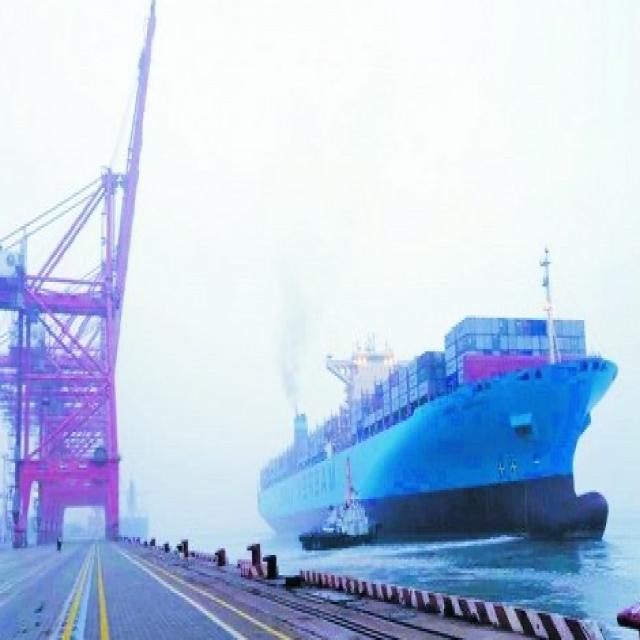cargoship: (254, 294, 623, 555)
houseboat: (303, 486, 381, 556)
